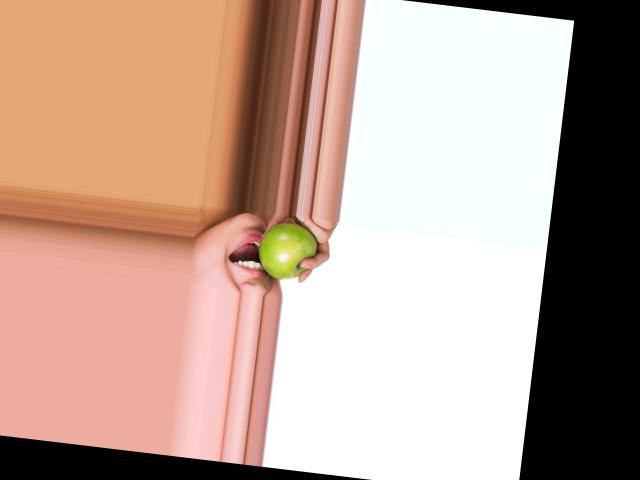apple: (253, 220, 321, 283)
